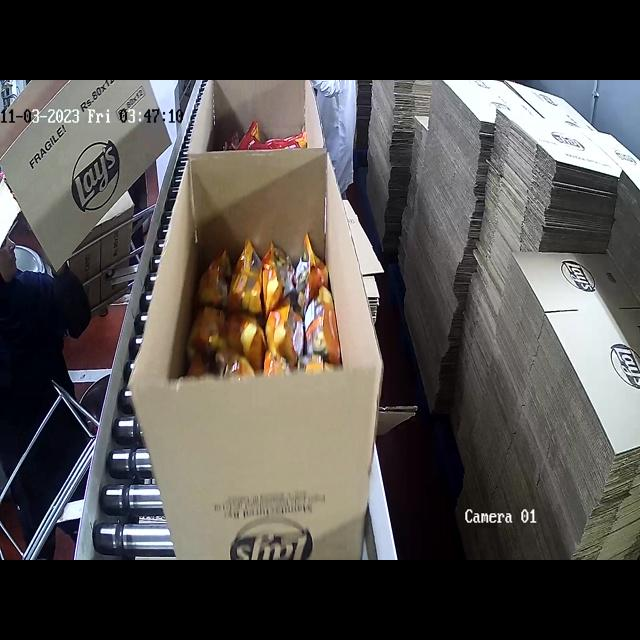cheese: (211, 231, 344, 370)
masala: (216, 110, 307, 155)
